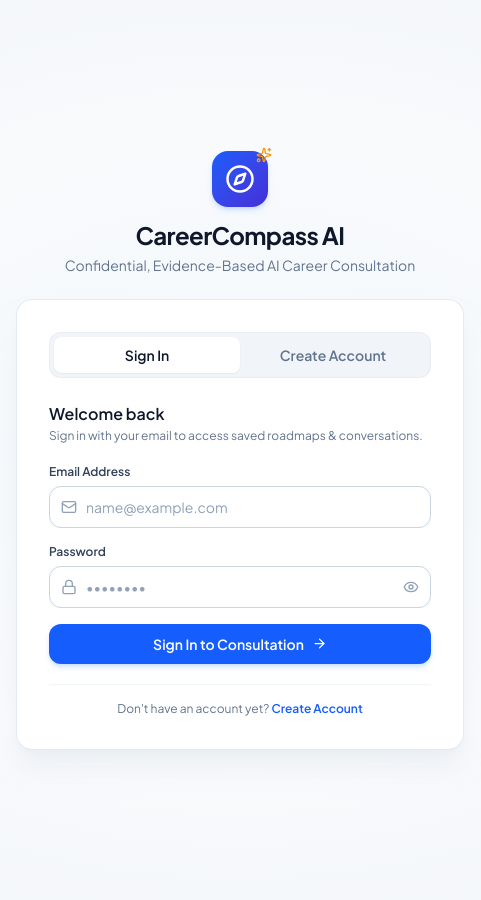
Test: Authentication & Role Enforcement Frontend Tests › validates password matching on signup
// Switch to signup
Click the button with test id "tab-signup" at (333,354), box [240,336,426,372]
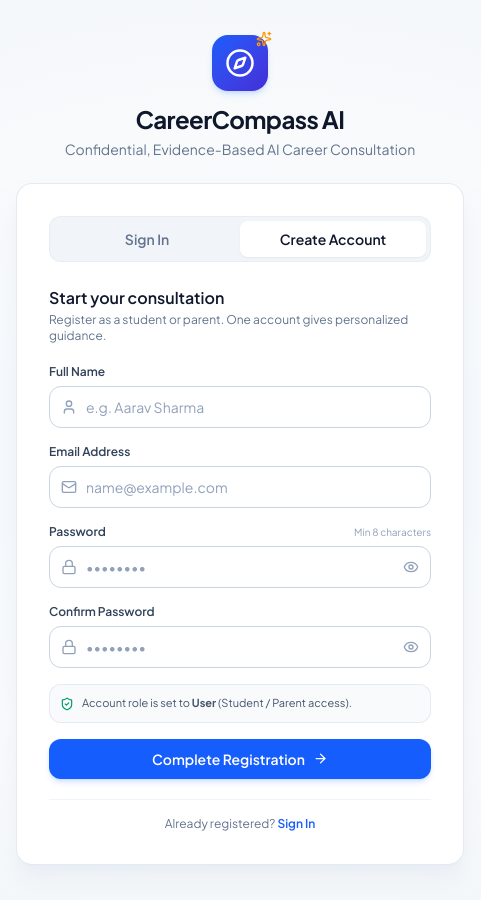
Type "Priya Patel" into the field with placeholder "e.g. Aarav Sharma" at (240,407), box [49,386,431,428]
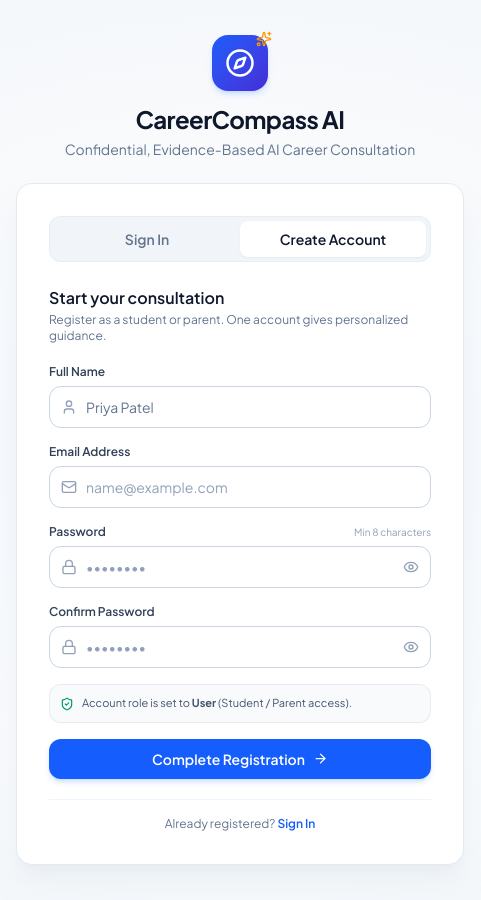
Type "priya@example.com" into the field with placeholder "name@example.com" at (240,487), box [49,466,431,508]
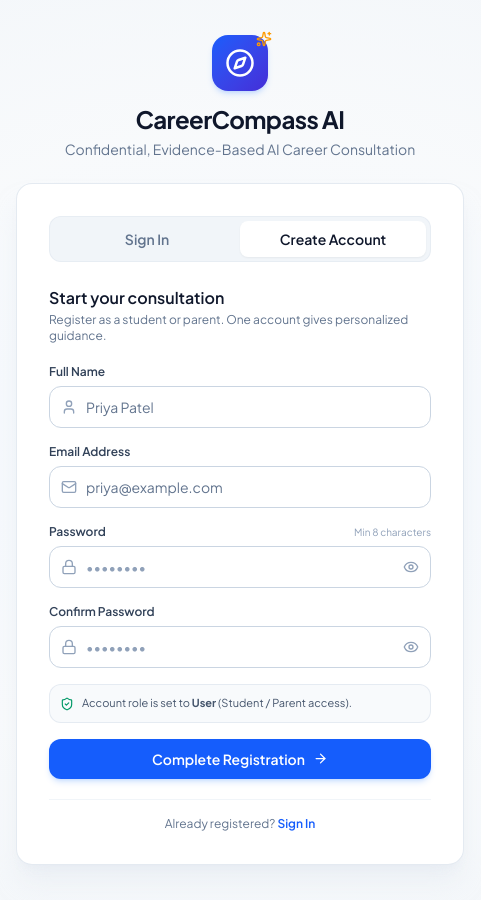
Type "Password123!" into the password field with placeholder "••••••••" below "Min 8 characters" at (240,567), box [49,546,431,588]
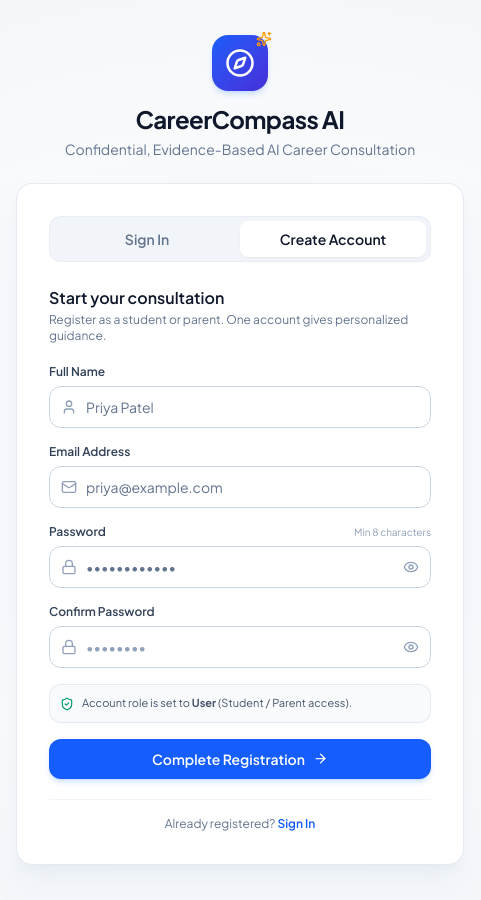
Type "Mismatch999!" into the password field with placeholder "••••••••" at (240,647), box [49,626,431,668]
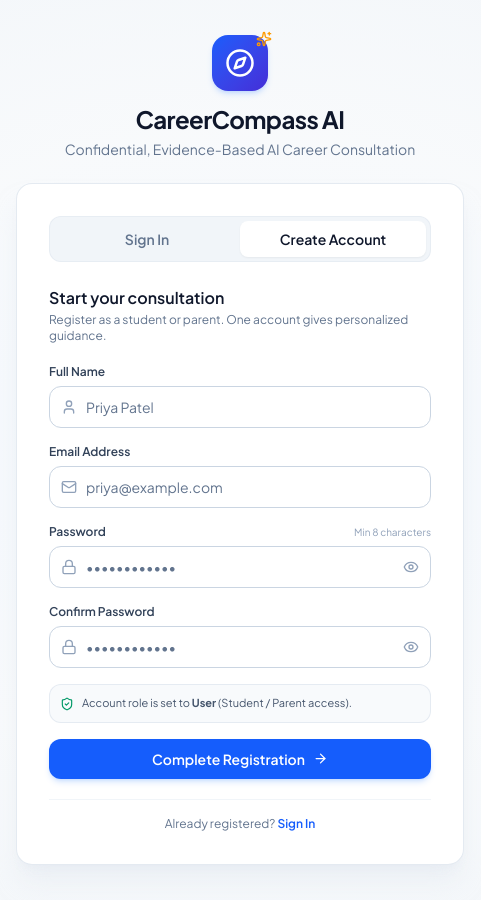
Click the button with test id "auth-submit-btn" at (240,759), box [49,739,431,779]
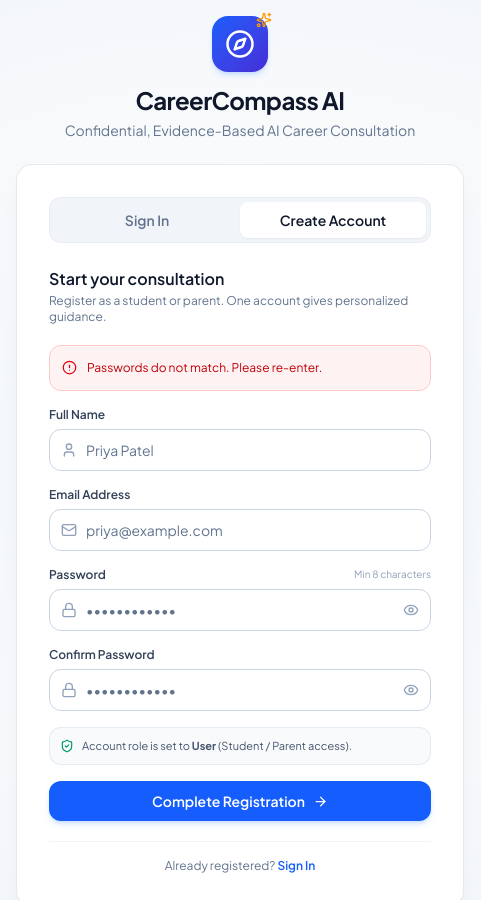
Expected: the text "Passwords do not match. Please re-enter." is shown, [87,358,322,378]
